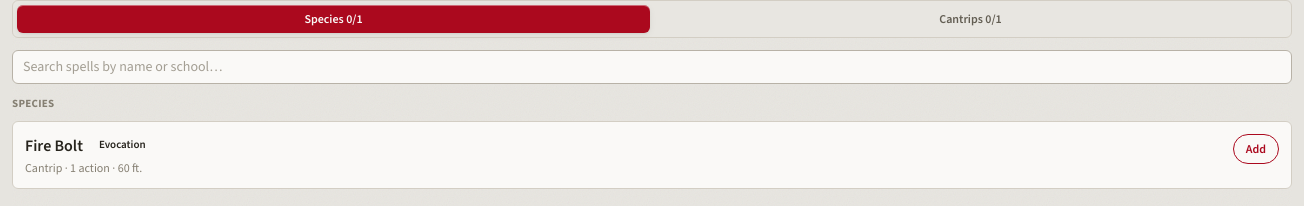
Test: SpellPickerTabs › shows only the first group's rows until a segment is clicked, then swaps
Expected: the button with aria-label "Open Fire Bolt" is shown, [25,134,1221,176]
Click the radio button labelled "Cantrips 0/1". click: {"x": 970, "y": 19}
box: [654,5,1287,33]
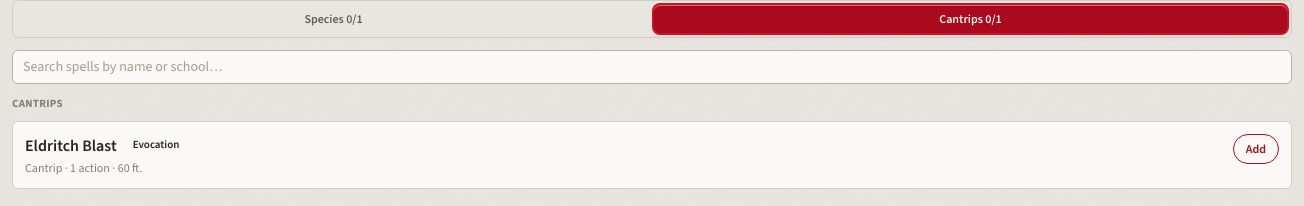
Result: the button with aria-label "Open Eldritch Blast" is shown at [25,134,1221,176]
